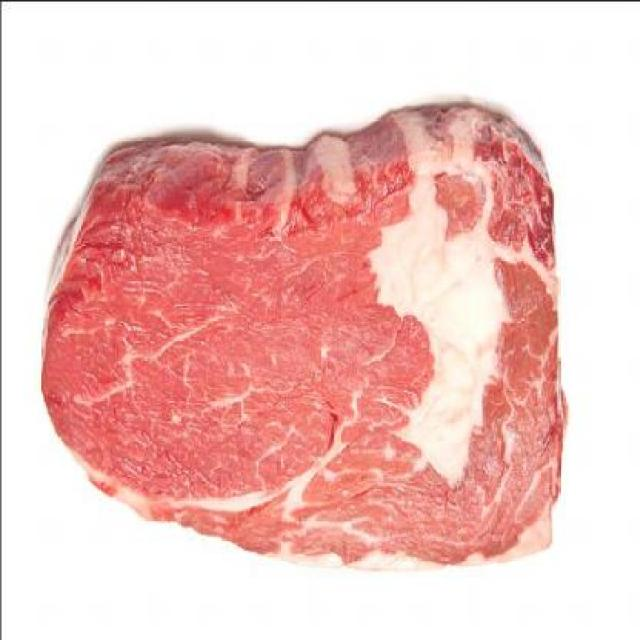beef: (37, 102, 569, 572)
